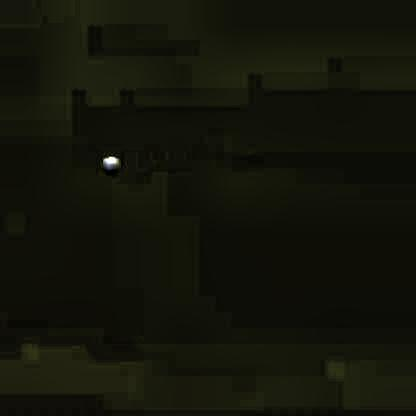golfball: (99, 154, 119, 172)
